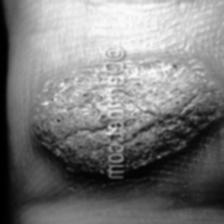Toxin: (129, 56, 224, 170), (32, 68, 102, 174)
